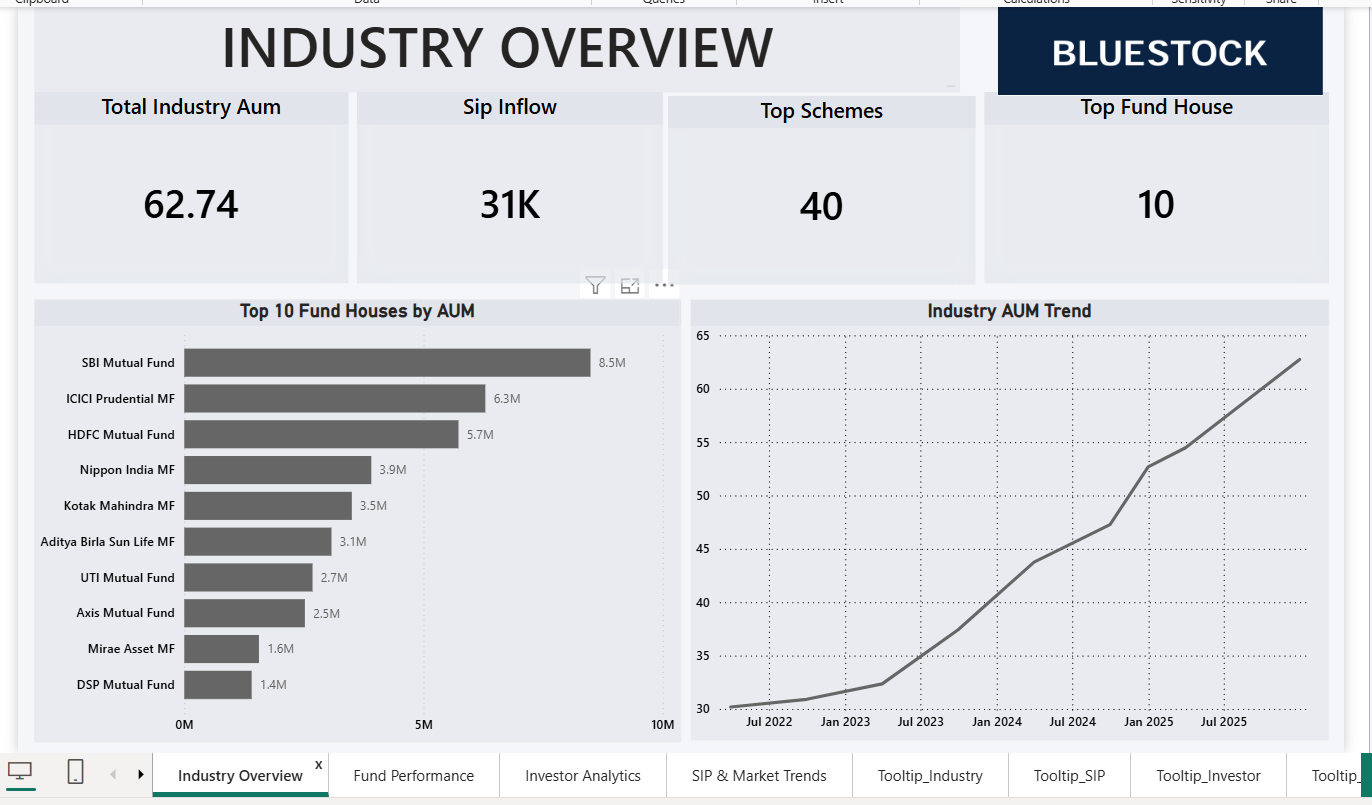

This screenshot's page, from the dashboard's own definition file:
{"tool":"powerbi","page":{"name":"Industry Overview","canvas":[1280,720],"ordinal":0},"visuals":[{"type":"lineChart","title":"Industry AUM Trend","fields":{"Category":["clean_aum_by_fund_house.date"],"Y":["Sum(clean_aum_by_fund_house.aum_lakh_crore)"]},"box":[649.1,282.7,616.1,425.4],"z":0},{"type":"clusteredBarChart","title":"Top 10 Fund Houses by AUM","fields":{"Category":["clean_aum_by_fund_house.fund_house"],"Y":["Sum(clean_aum_by_fund_house.aum_crore)"]},"box":[15.7,282,623.7,427],"z":1000},{"type":"cardVisual","title":"Sip Inflow","fields":{"Data":["Dashboard_Measures.Latest SIP Inflow"]},"box":[326.9,82,295.6,184.6],"z":2000},{"type":"cardVisual","title":"Total Industry Aum","fields":{"Data":["Dashboard_Measures.Total Industry AUM 1"]},"box":[15.7,82,302.8,184.6],"z":3000},{"type":"cardVisual","title":"Top Schemes","fields":{"Data":["Dashboard_Measures.Total Schemes"]},"box":[627.3,85.7,296.8,182.2],"z":4000},{"type":"cardVisual","title":"Top Fund House","fields":{"Data":["Dashboard_Measures.Total Fund Houses"]},"box":[932.6,82,333,184.6],"z":5000},{"type":"textbox","title":"INDUSTRY OVERVIEW","box":[15.7,0,894,82],"z":6000},{"type":"image","box":[924.1,0,355.9,85.7],"z":7000}]}

Visuals, with their boxes on the page's 1280x720 design canvas (x1, y1, x2, y2). These are canvas units, not pixel positions in the 1372x805 screenshot, which may show the page scaled, cropped or inside an application window:
"Industry AUM Trend" lineChart: left=649, top=283, right=1265, bottom=708
"Top 10 Fund Houses by AUM" clusteredBarChart: left=16, top=282, right=639, bottom=709
"Sip Inflow" cardVisual: left=327, top=82, right=622, bottom=267
"Total Industry Aum" cardVisual: left=16, top=82, right=318, bottom=267
"Top Schemes" cardVisual: left=627, top=86, right=924, bottom=268
"Top Fund House" cardVisual: left=933, top=82, right=1266, bottom=267
"INDUSTRY OVERVIEW" textbox: left=16, top=0, right=910, bottom=82
image: left=924, top=0, right=1280, bottom=86
